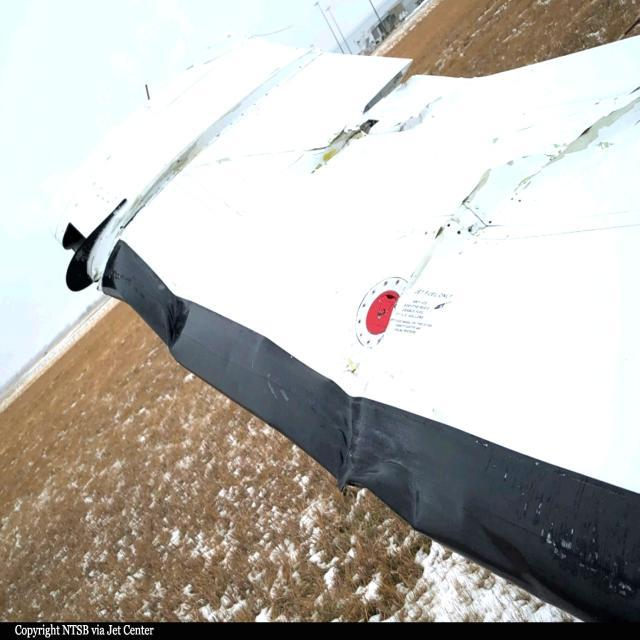crack: (309, 57, 435, 179), (511, 96, 640, 199), (398, 173, 494, 300)
